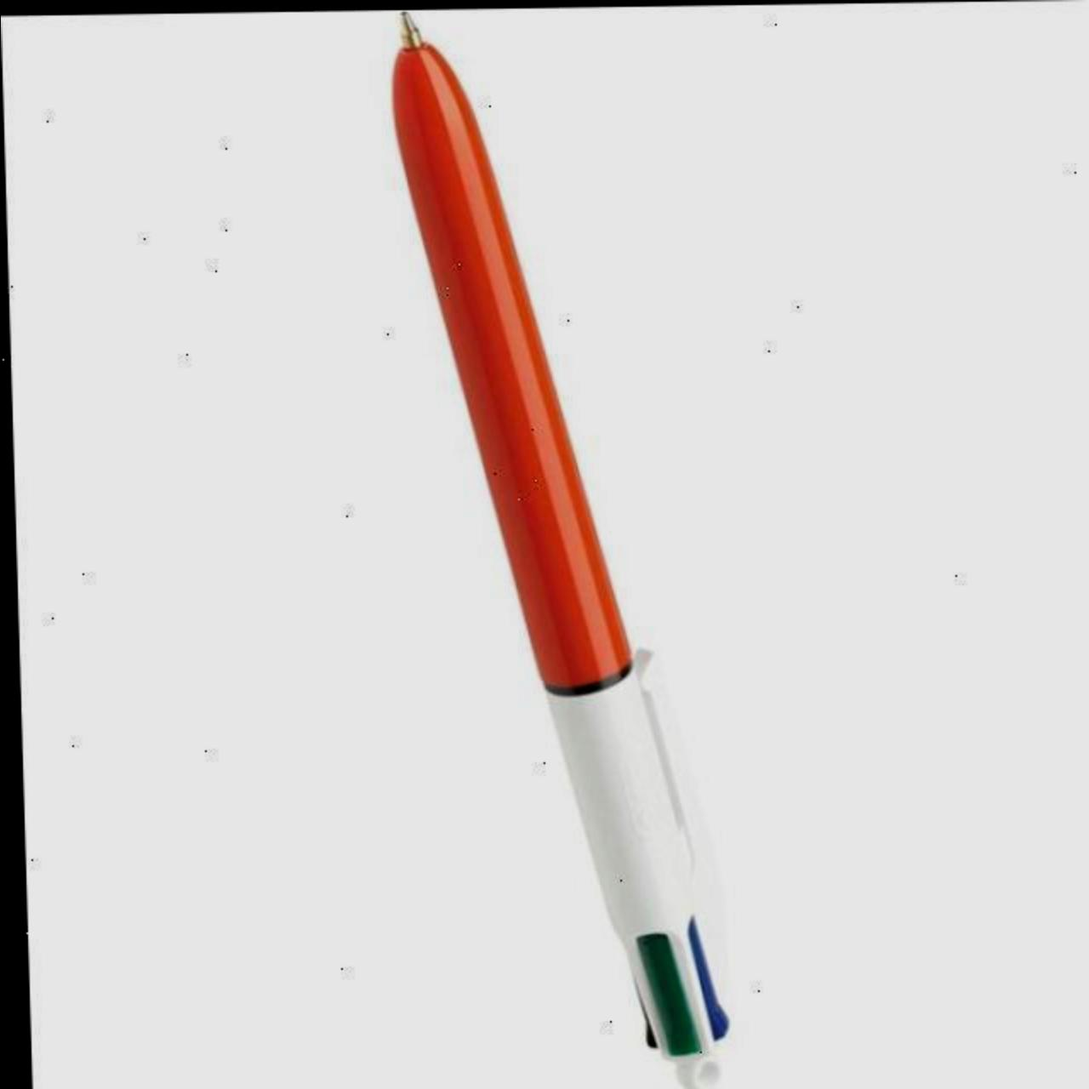pen: (385, 7, 733, 1089)
